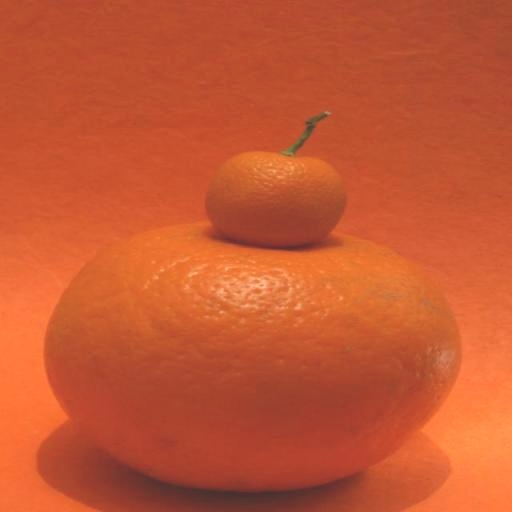fruit: (45, 224, 459, 491), (206, 112, 346, 247)
